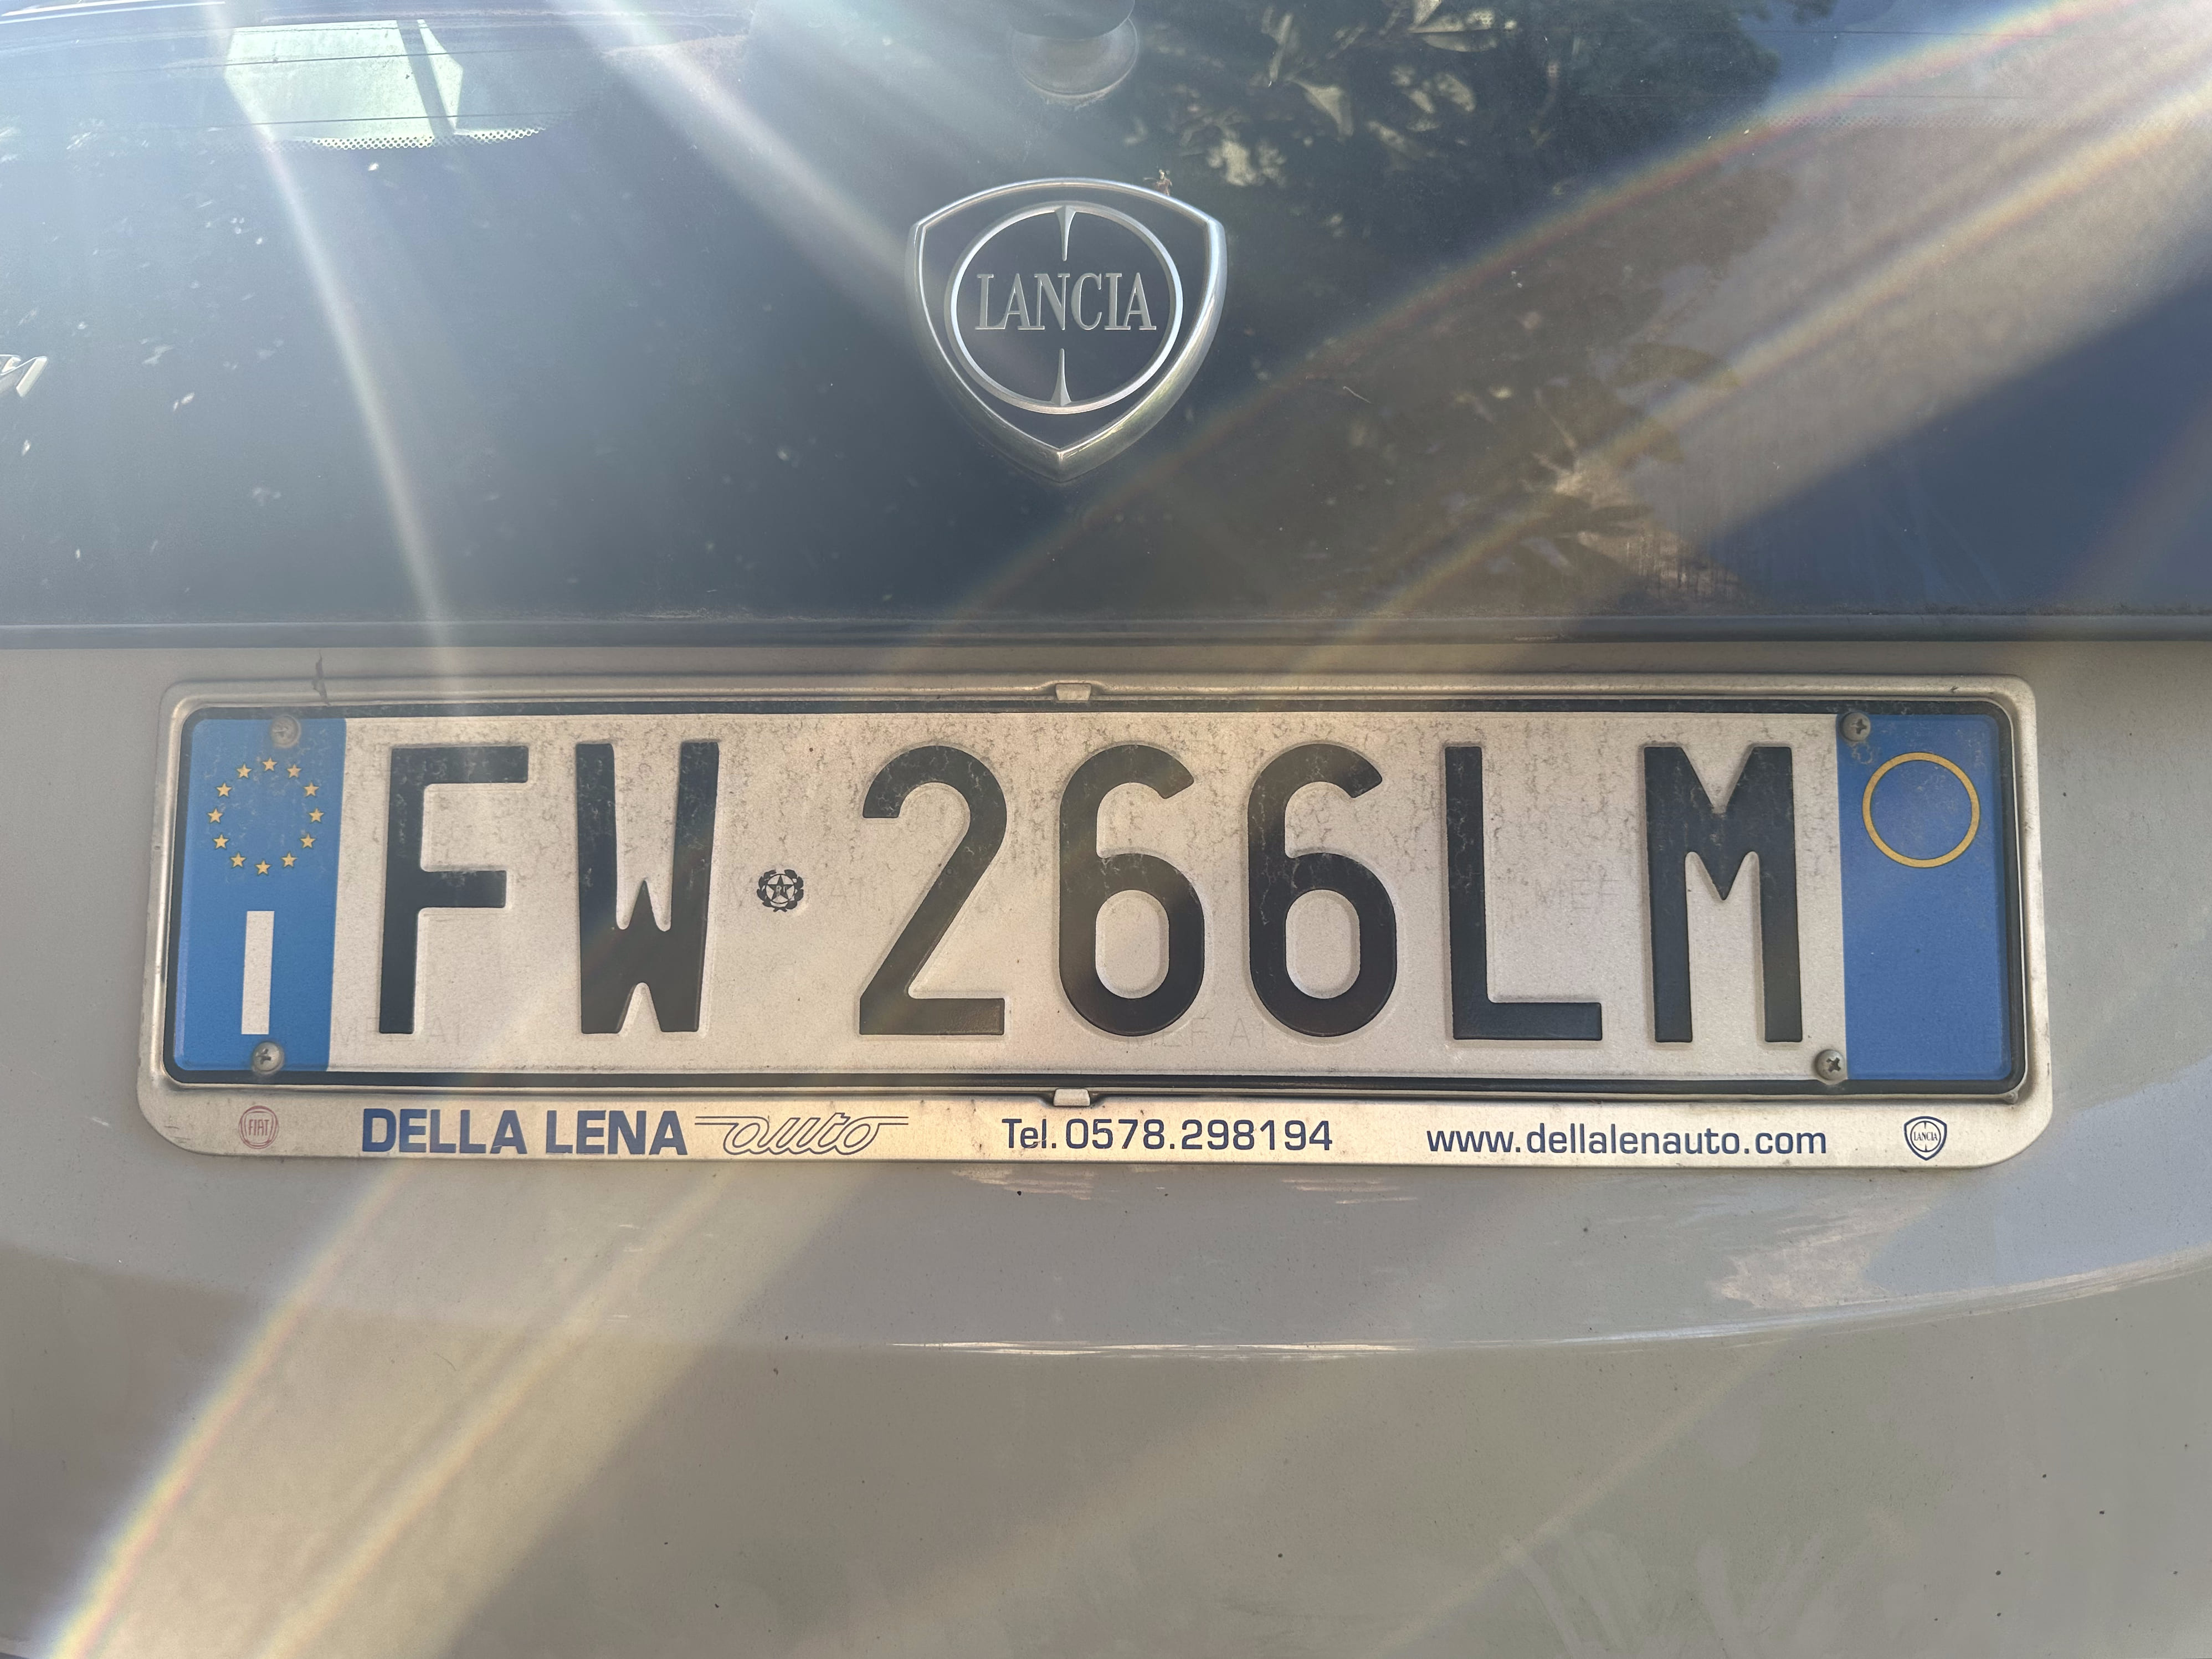license-plate: (156, 696, 2030, 1097)
